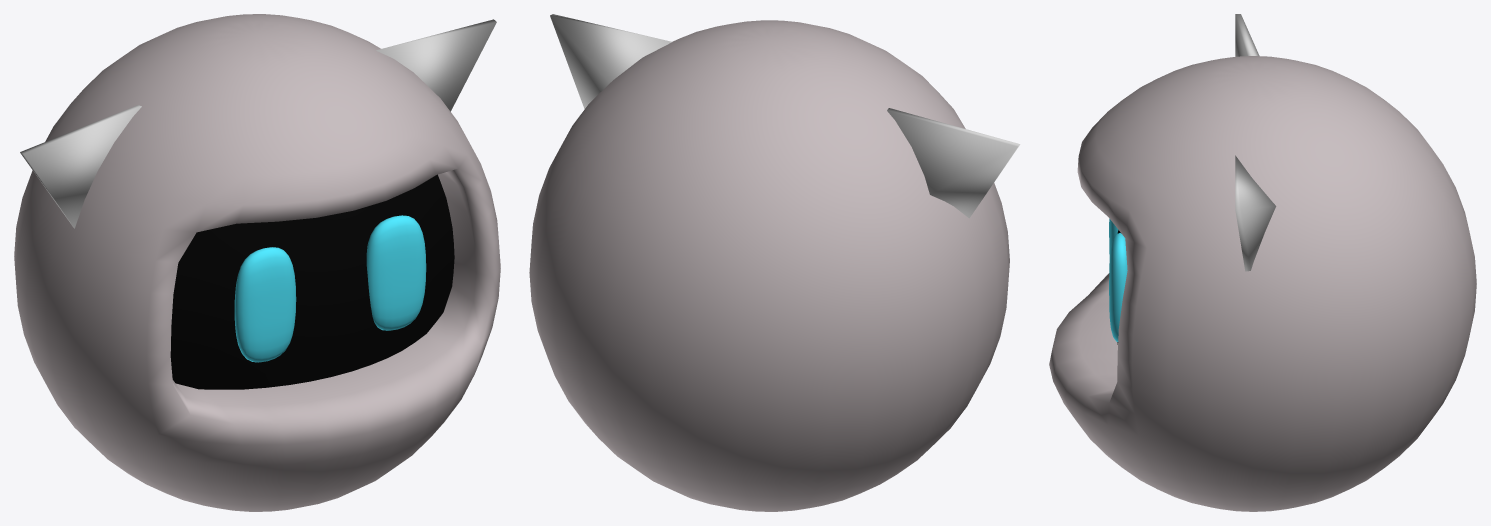
Rendered from cat_robo.glb.
3 views of the same model, side by side, from view 1: azimuth 30°, elevation 25°; view 2: azimuth 150°, elevation 25°; view 3: azimuth 270°, elevation 25° (orthographic). The views are drawn at different scales.
Parts seen in each view (by area): view 1: 身体, 身体の四角部分, 目, 左耳, 右耳; view 2: 身体, 左耳, 右耳; view 3: 身体, 右耳, 目, 左耳.
Part boxes in pixels (<box>): 身体: <box>14,14,500,511</box>; 身体の四角部分: <box>170,174,454,389</box>; 目: <box>234,215,426,362</box>; 左耳: <box>20,105,141,228</box>; 右耳: <box>376,19,496,111</box>; 身体: <box>529,20,1009,511</box>; 左耳: <box>887,108,1020,218</box>; 右耳: <box>550,14,671,109</box>; 身体: <box>1049,56,1476,511</box>; 右耳: <box>1235,155,1276,271</box>; 目: <box>1109,218,1127,341</box>; 左耳: <box>1235,14,1259,56</box>.
Bounding box in the file's own units: 2.16 × 1.98 × 1.85.
